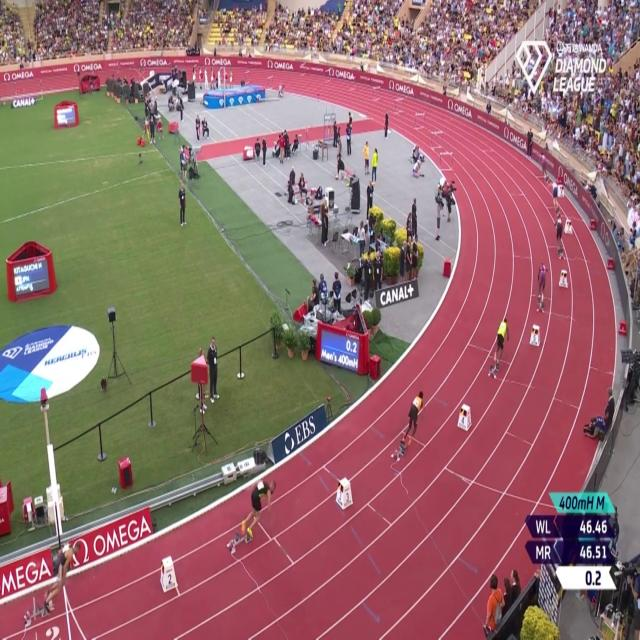athlete: (44, 528, 80, 612), (240, 478, 277, 543), (398, 386, 430, 446), (492, 313, 511, 377), (532, 260, 547, 313), (550, 210, 566, 252), (549, 174, 562, 211), (536, 147, 547, 185)
hurdle: (438, 146, 456, 174), (414, 108, 431, 134), (430, 126, 446, 151), (372, 83, 387, 108), (298, 58, 310, 83), (265, 70, 278, 92), (347, 74, 360, 94), (394, 94, 406, 114), (323, 68, 335, 88), (243, 67, 254, 88)
